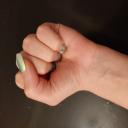Fist: (12, 17, 92, 107)
